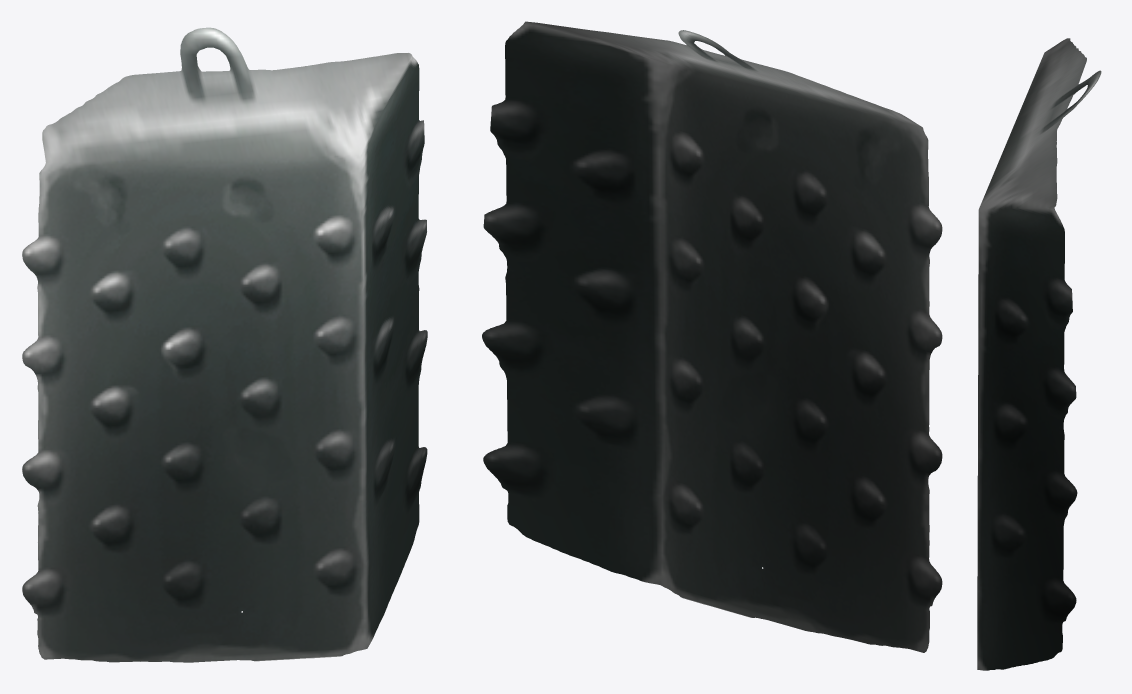
The model's file is Falling Weight.FBX.
The picture shows the model from 3 angles, left to right: view 1: azimuth 30°, elevation 25°; view 2: azimuth 150°, elevation 25°; view 3: azimuth 270°, elevation 25°; orthographic projection. The views are drawn at different scales.
Parts seen in each view (by area): view 1: Falling Weight; view 2: Falling Weight; view 3: Falling Weight.
Part boxes in pixels (<box>): Falling Weight: <box>22,27,427,662</box>; Falling Weight: <box>482,21,942,652</box>; Falling Weight: <box>977,38,1101,670</box>.
Size of the model in its own units: 221 by 66.33 by 297.
